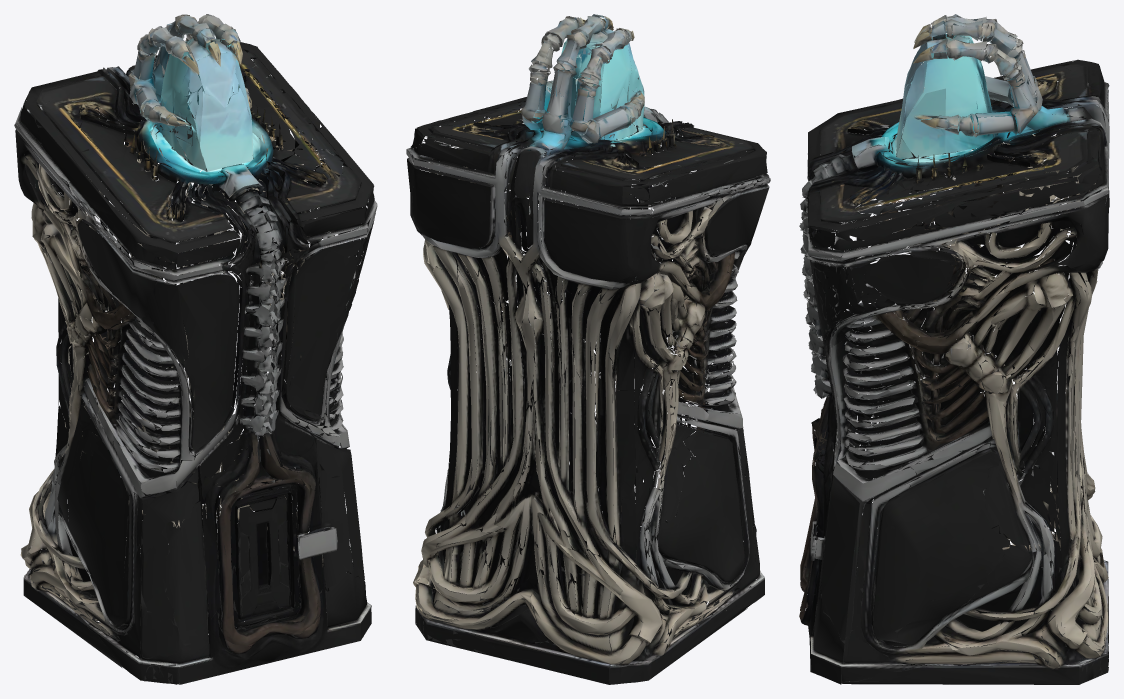
File: corp_quantum_ledger_podium.glb
The picture shows the model from 3 angles, left to right: view 1: azimuth 30°, elevation 25°; view 2: azimuth 150°, elevation 25°; view 3: azimuth 270°, elevation 25°; orthographic projection. The views are drawn at different scales.
Visible parts, largest first — view 1: node_0; view 2: node_0; view 3: node_0.
Boxes of the visible parts, x1,y1,x2,y2 form: node_0: (14, 14, 377, 684); node_0: (406, 14, 770, 684); node_0: (799, 14, 1109, 684).
Bounding box in the file's own units: 0.4594 × 1.05 × 0.486.
1 material, 1 textured.
